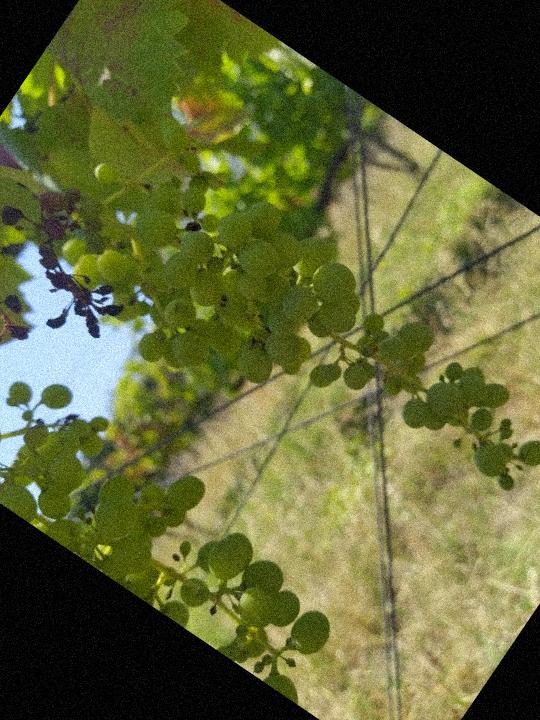grape: (16, 89, 540, 588), (0, 132, 169, 400)
